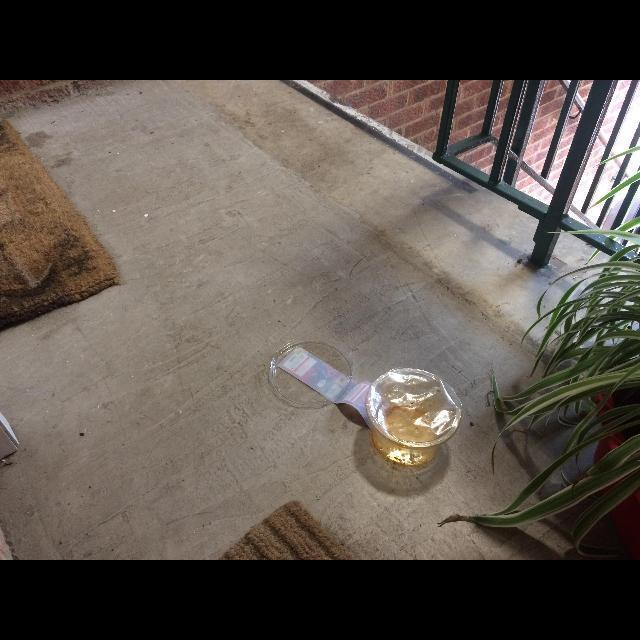Plastic: (366, 368, 460, 466), (366, 367, 464, 447), (270, 337, 352, 407)
